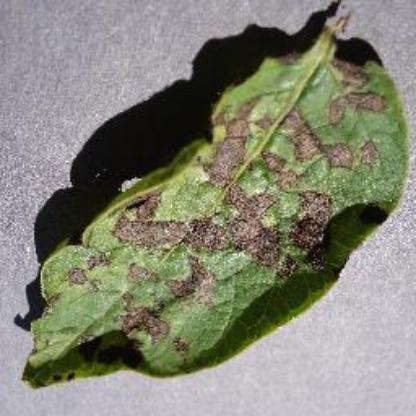Early-Blight: (26, 10, 406, 390)
